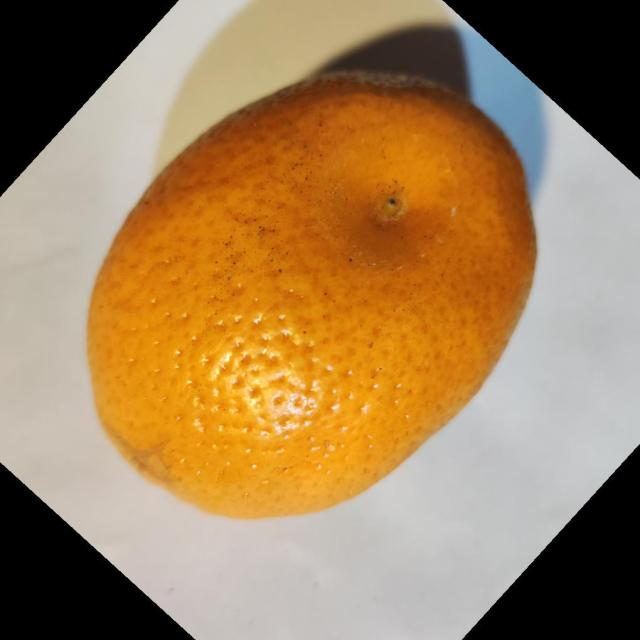fresh orange: (85, 68, 538, 520)
